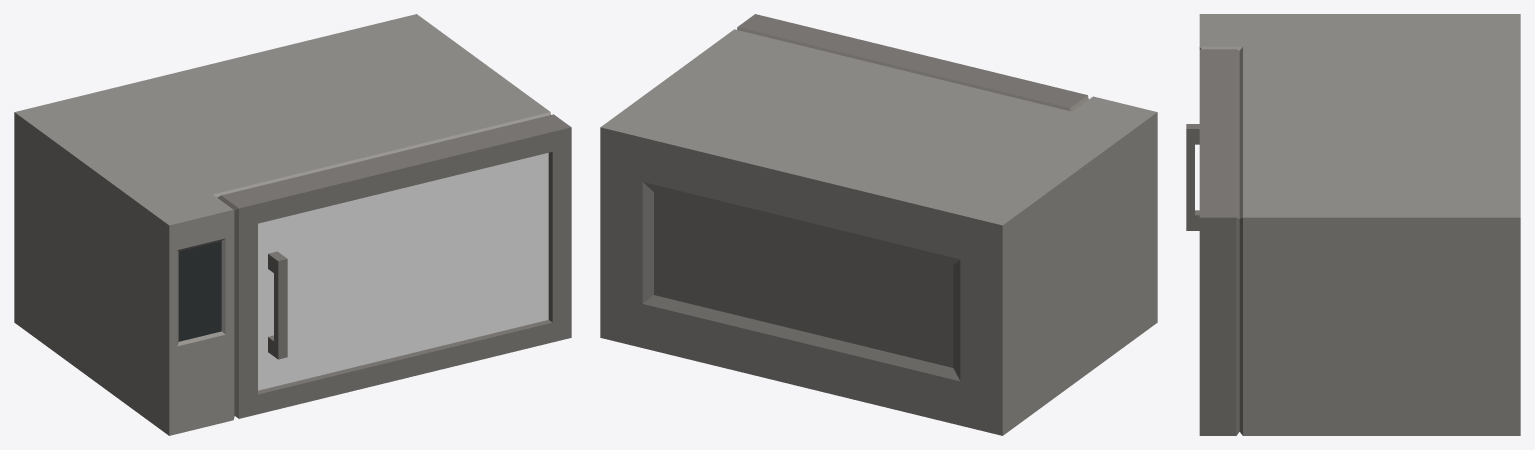
The model's file is SM_Props_Interior_House_Kitchen_Microwave.fbx.
The picture shows the model from 3 angles, left to right: view 1: azimuth 30°, elevation 25°; view 2: azimuth 150°, elevation 25°; view 3: azimuth 270°, elevation 25°; orthographic projection. The views are drawn at different scales.
Parts seen in each view (by area): view 1: SM_Props_Interior_House_Kitchen_Microwave, SM_Props_Interior_House_Kitchen_Microwave_Door; view 2: SM_Props_Interior_House_Kitchen_Microwave, SM_Props_Interior_House_Kitchen_Microwave_Door; view 3: SM_Props_Interior_House_Kitchen_Microwave, SM_Props_Interior_House_Kitchen_Microwave_Door.
Boxes of the visible parts, left/top/right/bottom form: SM_Props_Interior_House_Kitchen_Microwave: left=14, top=14, right=550, bottom=435; SM_Props_Interior_House_Kitchen_Microwave_Door: left=217, top=114, right=571, bottom=418; SM_Props_Interior_House_Kitchen_Microwave: left=600, top=29, right=1157, bottom=435; SM_Props_Interior_House_Kitchen_Microwave_Door: left=737, top=14, right=1088, bottom=111; SM_Props_Interior_House_Kitchen_Microwave: left=1199, top=14, right=1520, bottom=435; SM_Props_Interior_House_Kitchen_Microwave_Door: left=1186, top=49, right=1239, bottom=435.
Size of the model in its own units: 60 by 30 by 41.66.
